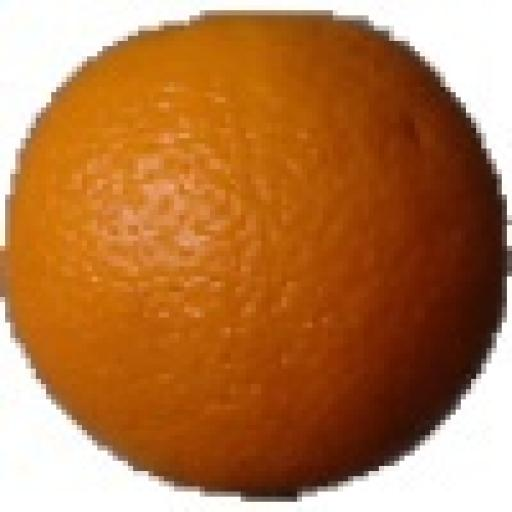orange: (6, 16, 506, 491)
